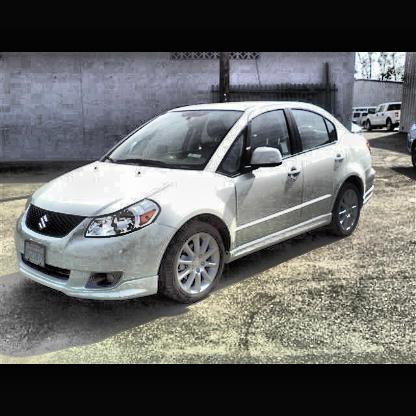Suzuki SX4 Sedan 2012: (13, 98, 379, 307)
